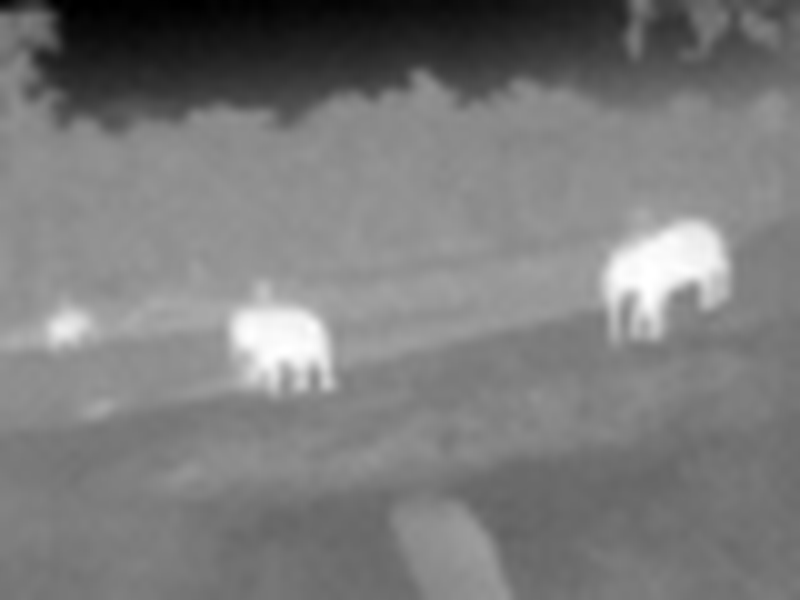elephant: (582, 214, 767, 353), (230, 312, 334, 402), (34, 306, 109, 355)
